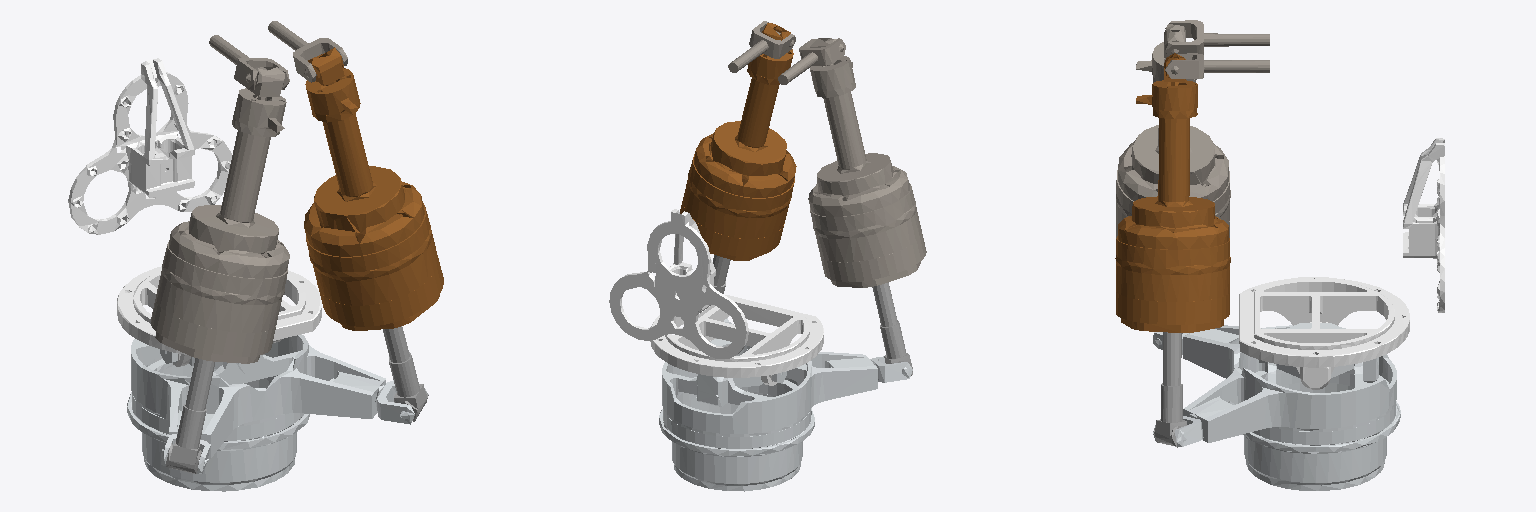
The robot description file, URDF, robot "Body":
<robot name="Body">
  <joint name="BodyActL" type="prismatic">
    <origin xyz="0.0 0.0 0.23999" rpy="0.0 0.0 -0.0"/>
    <axis xyz="0.0 0.0 1.0"/>
    <parent link="BodyBL2_Link"/>
    <child link="BodyActL_Link"/>
    <limit effort="400.0" lower="-1.57" upper="1.57" velocity="3.1415926"/>
  </joint>
  <link name="BodyActL_Link">
    <inertial>
      <origin xyz="0.0 0.0 -0.077362" rpy="0.0 0.0 0.0"/>
      <mass value="0.10190000000000002"/>
      <inertia ixx="0.00013708249997353297" ixy="3.8201993071794706e-08" ixz="1.1083966073276513e-22" iyy="0.00013710250002646712" iyz="9.793800383959562e-22" izz="1.0000000000000003e-05"/>
    </inertial>
    <visual name="BodyActL_Visual">
      <origin xyz="0.0 0.0 0.0" rpy="0.0 0.0 -3.141593"/>
      <geometry>
        <mesh filename="../meshes/lfs-stl/Body_ActL.stl"/>
      </geometry>
      <material name="">
        <color rgba="0.69804 0.69804 0.69804 1.0"/>
      </material>
    </visual>
    <collision name="BodyActL_Collision">
      <origin xyz="0.0 0.0 0.0" rpy="0.0 0.0 0.0"/>
      <geometry>
        <mesh filename="../meshes/lfs-stl/Body_ActL_convexhull.stl" scale="1.0 1.0 1.0"/>
      </geometry>
    </collision>
  </link>
  <joint name="BodyActR" type="prismatic">
    <origin xyz="0.0 0.0 0.23999" rpy="0.0 0.0 -0.0"/>
    <axis xyz="0.0 0.0 1.0"/>
    <parent link="BodyBR2_Link"/>
    <child link="BodyActR_Link"/>
    <limit effort="400.0" lower="-1.57" upper="1.57" velocity="3.1415926"/>
  </joint>
  <link name="BodyActR_Link">
    <inertial>
      <origin xyz="0.0 0.0 -0.077362" rpy="0.0 0.0 0.0"/>
      <mass value="0.10190000000000002"/>
      <inertia ixx="0.00013708250002646719" ixy="-3.820200692820298e-08" ixz="2.0798008804014167e-17" iyy="0.00013710249997353285" iyz="-2.5414992795339697e-17" izz="1.0000000000000003e-05"/>
    </inertial>
    <visual name="BodyActR_Visual">
      <origin xyz="0.0 0.0 0.0" rpy="0.0 0.0 -3.141593"/>
      <geometry>
        <mesh filename="../meshes/lfs-stl/Body_ActR.stl"/>
      </geometry>
      <material name="">
        <color rgba="0.69804 0.69804 0.69804 1.0"/>
      </material>
    </visual>
    <collision name="BodyActR_Collision">
      <origin xyz="0.0 0.0 0.0" rpy="0.0 0.0 0.0"/>
      <geometry>
        <mesh filename="../meshes/lfs-stl/Body_ActR_convexhull.stl" scale="1.0 1.0 1.0"/>
      </geometry>
    </collision>
  </link>
  <joint name="BodyBL1" type="revolute">
    <origin xyz="0.02 -0.089827 0.21" rpy="2.899823 0.0 1.5708"/>
    <axis xyz="1.0 0.0 0.0"/>
    <parent link="BodyRoot_Link"/>
    <child link="BodyBL1_Link"/>
    <limit effort="400.0" lower="-1.57" upper="1.57" velocity="3.1415926"/>
  </joint>
  <link name="BodyBL1_Link">
    <inertial>
      <origin xyz="0.020399 0.0 0.0" rpy="0.0 0.0 0.0"/>
      <mass value="0.042423"/>
      <inertia ixx="1.0000000000001026e-05" ixy="-2.9574078259175723e-12" ixz="-6.764500061230576e-20" iyy="1.8537299999998983e-05" iyz="1.767562644587376e-21" izz="2.0306299999999996e-05"/>
    </inertial>
    <visual name="BodyBL1_Visual">
      <origin xyz="0.0 0.0 0.0" rpy="0.0 0.0 -3.141593"/>
      <geometry>
        <mesh filename="../meshes/lfs-stl/Body_BL1.stl"/>
      </geometry>
      <material name="">
        <color rgba="0.64706 0.61961 0.58824 1.0"/>
      </material>
    </visual>
    <collision name="BodyBL1_Collision">
      <origin xyz="0.0 0.0 0.0" rpy="0.0 0.0 0.0"/>
      <geometry>
        <mesh filename="../meshes/lfs-stl/Body_BL1_convexhull.stl" scale="1.0 1.0 1.0"/>
      </geometry>
    </collision>
  </link>
  <joint name="BodyBL2" type="revolute">
    <origin xyz="0.0 0.0 0.0" rpy="0.0 -0.010339 -0.0"/>
    <axis xyz="0.0 1.0 0.0"/>
    <parent link="BodyBL1_Link"/>
    <child link="BodyBL2_Link"/>
    <limit effort="400.0" lower="-1.57" upper="1.57" velocity="3.1415926"/>
  </joint>
  <link name="BodyBL2_Link">
    <inertial>
      <origin xyz="-5.3e-05 1.1e-05 0.12216" rpy="0.0 0.0 0.0"/>
      <mass value="0.8166400000000001"/>
      <inertia ixx="0.0004187999999241573" ixy="1.0946911318984479e-07" ixz="4.637099902145767e-07" iyy="0.00042136000007584283" iyz="2.8248160633875217e-08" izz="0.00051891"/>
    </inertial>
    <visual name="BodyBL2_Visual">
      <origin xyz="0.0 0.0 0.0" rpy="0.0 0.0 -3.141593"/>
      <geometry>
        <mesh filename="../meshes/lfs-stl/Body_BL2.stl"/>
      </geometry>
      <material name="">
        <color rgba="0.61961 0.40784 0.2 1.0"/>
      </material>
    </visual>
    <collision name="BodyBL2_Collision">
      <origin xyz="0.0 0.0 0.0" rpy="0.0 0.0 0.0"/>
      <geometry>
        <mesh filename="../meshes/lfs-stl/Body_BL2_convexhull.stl" scale="1.0 1.0 1.0"/>
      </geometry>
    </collision>
  </link>
  <joint name="BodyBR1" type="revolute">
    <origin xyz="-0.02 -0.089827 0.21" rpy="-2.899823 0.0 1.5708"/>
    <axis xyz="1.0 0.0 0.0"/>
    <parent link="BodyRoot_Link"/>
    <child link="BodyBR1_Link"/>
    <limit effort="400.0" lower="-1.57" upper="1.57" velocity="3.1415926"/>
  </joint>
  <link name="BodyBR1_Link">
    <inertial>
      <origin xyz="0.020399 0.0 0.0" rpy="0.0 0.0 0.0"/>
      <mass value="0.042423"/>
      <inertia ixx="1.0000000000001026e-05" ixy="-2.9574078244755723e-12" ixz="-6.968000025102942e-20" iyy="1.8537299999998983e-05" iyz="7.246474869280696e-22" izz="2.0306299999999996e-05"/>
    </inertial>
    <visual name="BodyBR1_Visual">
      <origin xyz="0.0 0.0 0.0" rpy="0.0 0.0 -3.141593"/>
      <geometry>
        <mesh filename="../meshes/lfs-stl/Body_BR1.stl"/>
      </geometry>
      <material name="">
        <color rgba="0.64706 0.61961 0.58824 1.0"/>
      </material>
    </visual>
    <collision name="BodyBR1_Collision">
      <origin xyz="0.0 0.0 0.0" rpy="0.0 0.0 0.0"/>
      <geometry>
        <mesh filename="../meshes/lfs-stl/Body_BR1_convexhull.stl" scale="1.0 1.0 1.0"/>
      </geometry>
    </collision>
  </link>
  <joint name="BodyBR2" type="revolute">
    <origin xyz="0.0 0.0 0.0" rpy="0.0 -0.010339 -0.0"/>
    <axis xyz="0.0 1.0 0.0"/>
    <parent link="BodyBR1_Link"/>
    <child link="BodyBR2_Link"/>
    <limit effort="400.0" lower="-1.57" upper="1.57" velocity="3.1415926"/>
  </joint>
  <link name="BodyBR2_Link">
    <inertial>
      <origin xyz="-6.2e-05 -1.2e-05 0.12216" rpy="0.0 0.0 0.0"/>
      <mass value="0.8166400000000001"/>
      <inertia ixx="0.00041874999995572364" ixy="6.390708201293713e-08" ixz="4.4057001108232887e-07" iyy="0.0004214000000442765" iyz="-3.199184738205335e-08" izz="0.00051891"/>
    </inertial>
    <visual name="BodyBR2_Visual">
      <origin xyz="0.0 0.0 0.0" rpy="0.0 0.0 -3.141593"/>
      <geometry>
        <mesh filename="../meshes/lfs-stl/Body_BR2.stl"/>
      </geometry>
      <material name="">
        <color rgba="0.64706 0.61961 0.58824 1.0"/>
      </material>
    </visual>
    <collision name="BodyBR2_Collision">
      <origin xyz="0.0 0.0 0.0" rpy="0.0 0.0 0.0"/>
      <geometry>
        <mesh filename="../meshes/lfs-stl/Body_BR2_convexhull.stl" scale="1.0 1.0 1.0"/>
      </geometry>
    </collision>
  </link>
  <joint name="BodyPitch" type="revolute">
    <origin xyz="0.0 0.0 0.0" rpy="3.141593 0.0 1.570797"/>
    <axis xyz="0.0 1.0 0.0"/>
    <parent link="BodyRoot_Link"/>
    <child link="BodyPitch_Link"/>
    <limit effort="400.0" lower="-0.349" upper="0.527" velocity="3.1415926"/>
  </joint>
  <link name="BodyPitch_Link">
    <inertial>
      <origin xyz="0.0 0.0 0.0" rpy="0.0 0.0 0.0"/>
      <mass value="0.076413"/>
      <inertia ixx="1.3771000000001387e-05" ixy="2.1212999999995475e-12" ixz="2.1080999098829268e-12" iyy="1.3770999999998615e-05" iyz="-2.7576068891630696e-13" izz="2.4637e-05"/>
    </inertial>
    <visual name="BodyPitch_Visual">
      <origin xyz="0.0 0.0 0.0" rpy="0.0 0.0 -1.570796"/>
      <geometry>
        <mesh filename="../meshes/lfs-stl/BodyPitch.stl"/>
      </geometry>
      <material name="">
        <color rgba="0.89804 0.91765 0.92941 1.0"/>
      </material>
    </visual>
    <collision name="BodyPitch_Collision">
      <origin xyz="0.0 0.0 0.0" rpy="0.0 0.0 0.0"/>
      <geometry>
        <mesh filename="../meshes/lfs-stl/BodyPitch_convexhull.stl" scale="1.0 1.0 1.0"/>
      </geometry>
    </collision>
  </link>
  <joint name="BodyRoll" type="revolute">
    <origin xyz="0.0 0.0 0.0" rpy="0.0 0.0 -0.0"/>
    <axis xyz="1.0 0.0 0.0"/>
    <parent link="BodyPitch_Link"/>
    <child link="BodyRoll_Link"/>
    <limit effort="400.0" lower="-0.448" upper="0.448" velocity="3.1415926"/>
  </joint>
  <link name="BodyRoll_Link">
    <inertial>
      <origin xyz="-0.009734 1.6e-05 0.052947" rpy="0.0 0.0 0.0"/>
      <mass value="1.4553"/>
      <inertia ixx="0.001065799999518147" ixy="-7.372513070271073e-07" ixz="-6.32019993920274e-06" iyy="0.001000600000481853" iyz="1.8604206540909618e-07" izz="0.0017602"/>
    </inertial>
    <visual name="BodyRoll_Visual">
      <origin xyz="0.0 0.0 0.0" rpy="0.0 0.0 -1.570796"/>
      <geometry>
        <mesh filename="../meshes/lfs-stl/BodyRoll.stl"/>
      </geometry>
      <material name="">
        <color rgba="0.89804 0.91765 0.92941 1.0"/>
      </material>
    </visual>
    <collision name="BodyRoll_Collision">
      <origin xyz="0.0 0.0 0.0" rpy="0.0 0.0 0.0"/>
      <geometry>
        <mesh filename="../meshes/lfs-stl/BodyRoll_convexhull.stl" scale="1.0 1.0 1.0"/>
      </geometry>
    </collision>
  </link>
  <link name="BodyRoot_Link">
    <inertial>
      <origin xyz="0.001001 0.011445 0.027995" rpy="0.0 0.0 0.0"/>
      <mass value="0.1819"/>
      <inertia ixx="0.00016560999999982624" ixy="2.4259007707886505e-10" ixz="1.6758933595730266e-08" iyy="0.00021346000013282973" iyz="1.9149442598622602e-07" izz="0.0003416899998673442"/>
    </inertial>
    <visual name="BodyRoot_Link_Visual">
      <origin xyz="0.0 0.0 0.0" rpy="3.141593 0.0 3.141593"/>
      <geometry>
        <mesh filename="../meshes/lfs-stl/Body_Root_Link.stl"/>
      </geometry>
      <material name="">
        <color rgba="1.0 1.0 1.0 1.0"/>
      </material>
    </visual>
    <collision name="BodyRoot_Link_Collision">
      <origin xyz="0.0 0.0 0.0" rpy="0.0 0.0 0.0"/>
      <geometry>
        <mesh filename="../meshes/lfs-stl/Body_Root_Link_convexhull.stl" scale="1.0 1.0 1.0"/>
      </geometry>
    </collision>
  </link>
</robot>

--- What the picture shows (computed from the rendered views, not written in the file) ---
3 views of the same robot in one strip: view 1: azimuth 30°, elevation 25°; view 2: azimuth 150°, elevation 25°; view 3: azimuth 270°, elevation 25° (orthographic).
Robot: Body — 9 links, 8 joints (6 revolute, 2 prismatic); root link BodyRoot_Link; default pose: all joints at 0.
Links seen in each view (by area): view 1: BodyRoll_Link, BodyBR2_Link, BodyBL2_Link, BodyRoot_Link, BodyActR_Link, BodyActL_Link, BodyBL1_Link, BodyBR1_Link; view 2: BodyRoll_Link, BodyRoot_Link, BodyBR2_Link, BodyBL2_Link, BodyActR_Link, BodyBL1_Link, BodyBR1_Link, BodyPitch_Link; view 3: BodyRoll_Link, BodyBL2_Link, BodyRoot_Link, BodyBR2_Link, BodyActL_Link, BodyBR1_Link, BodyBL1_Link, BodyPitch_Link.
Boxes of the visible links, box(x1,y1,x2,y2) form: BodyRoll_Link: box(127, 334, 428, 491); BodyBR2_Link: box(151, 67, 289, 363); BodyBL2_Link: box(304, 47, 443, 330); BodyRoot_Link: box(68, 58, 321, 366); BodyActR_Link: box(166, 358, 214, 473); BodyActL_Link: box(383, 326, 428, 421); BodyBL1_Link: box(268, 21, 347, 82); BodyBR1_Link: box(209, 35, 289, 89); BodyRoll_Link: box(659, 318, 912, 491); BodyRoot_Link: box(609, 209, 823, 385); BodyBR2_Link: box(808, 38, 926, 287); BodyBL2_Link: box(680, 23, 796, 260); BodyActR_Link: box(872, 282, 912, 375); BodyBL1_Link: box(728, 21, 795, 72); BodyBR1_Link: box(778, 38, 845, 84); BodyPitch_Link: box(699, 339, 786, 387); BodyRoll_Link: box(1153, 325, 1400, 490); BodyBL2_Link: box(1115, 53, 1230, 332); BodyRoot_Link: box(1239, 138, 1444, 389); BodyBR2_Link: box(1116, 24, 1230, 237); BodyActL_Link: box(1154, 332, 1186, 447); BodyBR1_Link: box(1165, 20, 1269, 55); BodyBL1_Link: box(1165, 53, 1269, 78); BodyPitch_Link: box(1259, 323, 1353, 377).
Bounding box of the posed robot: 0.188 × 0.2106 × 0.2982 m (x, y, z).
9 mesh visuals loaded from 9 distinct referenced files (9 binary STL).